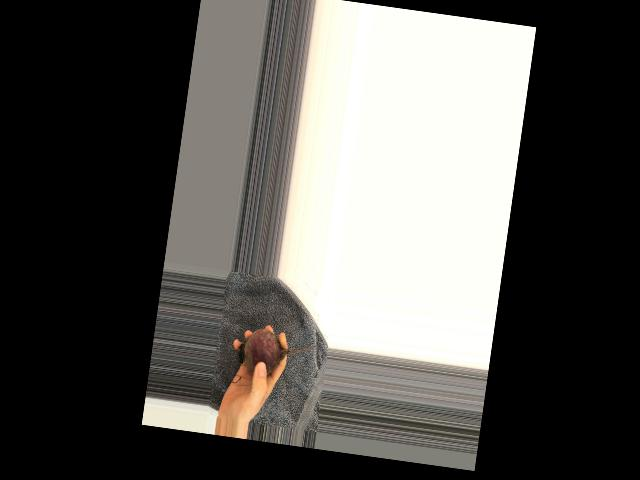beet: (235, 325, 319, 384)
